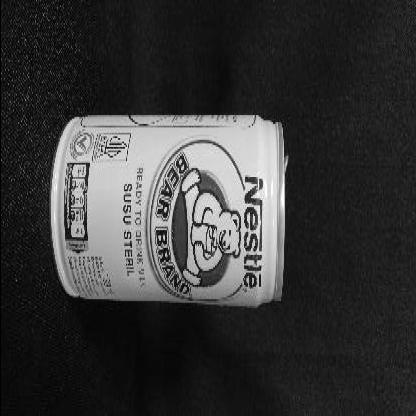alumunium_can: (47, 114, 286, 308)
